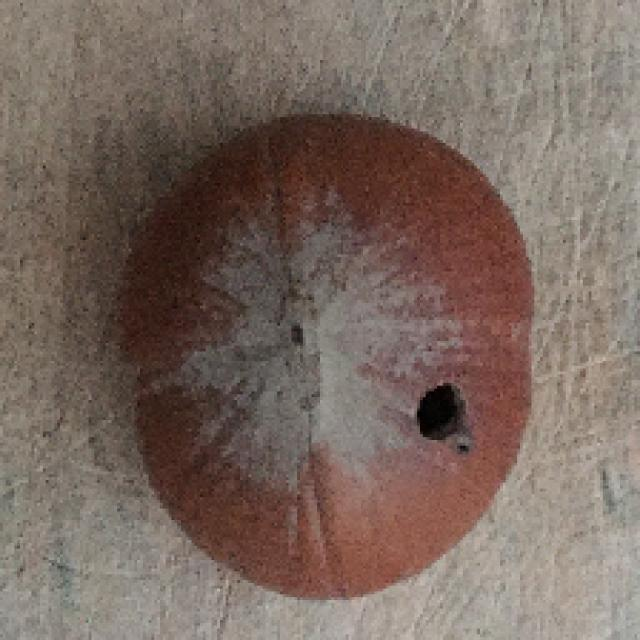damagedHazelnut: (106, 108, 538, 594)
